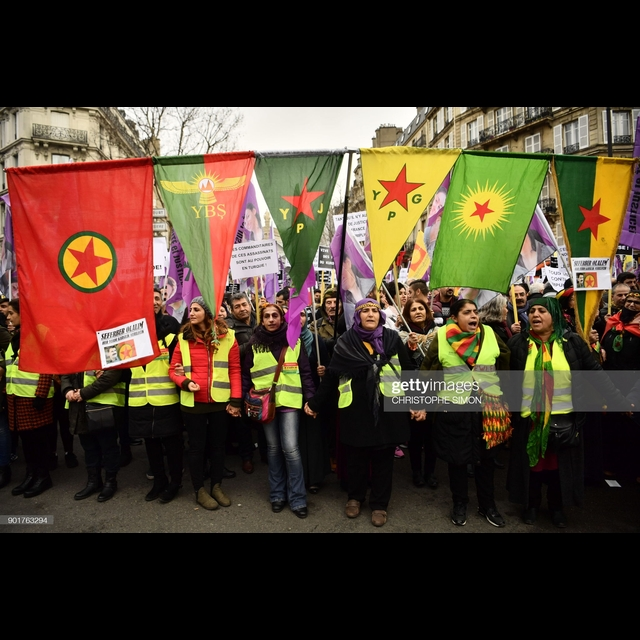KCK: (457, 173, 515, 249)
PKK: (52, 224, 123, 305)
YPG: (372, 159, 424, 225)
YPJ: (275, 171, 326, 241)
